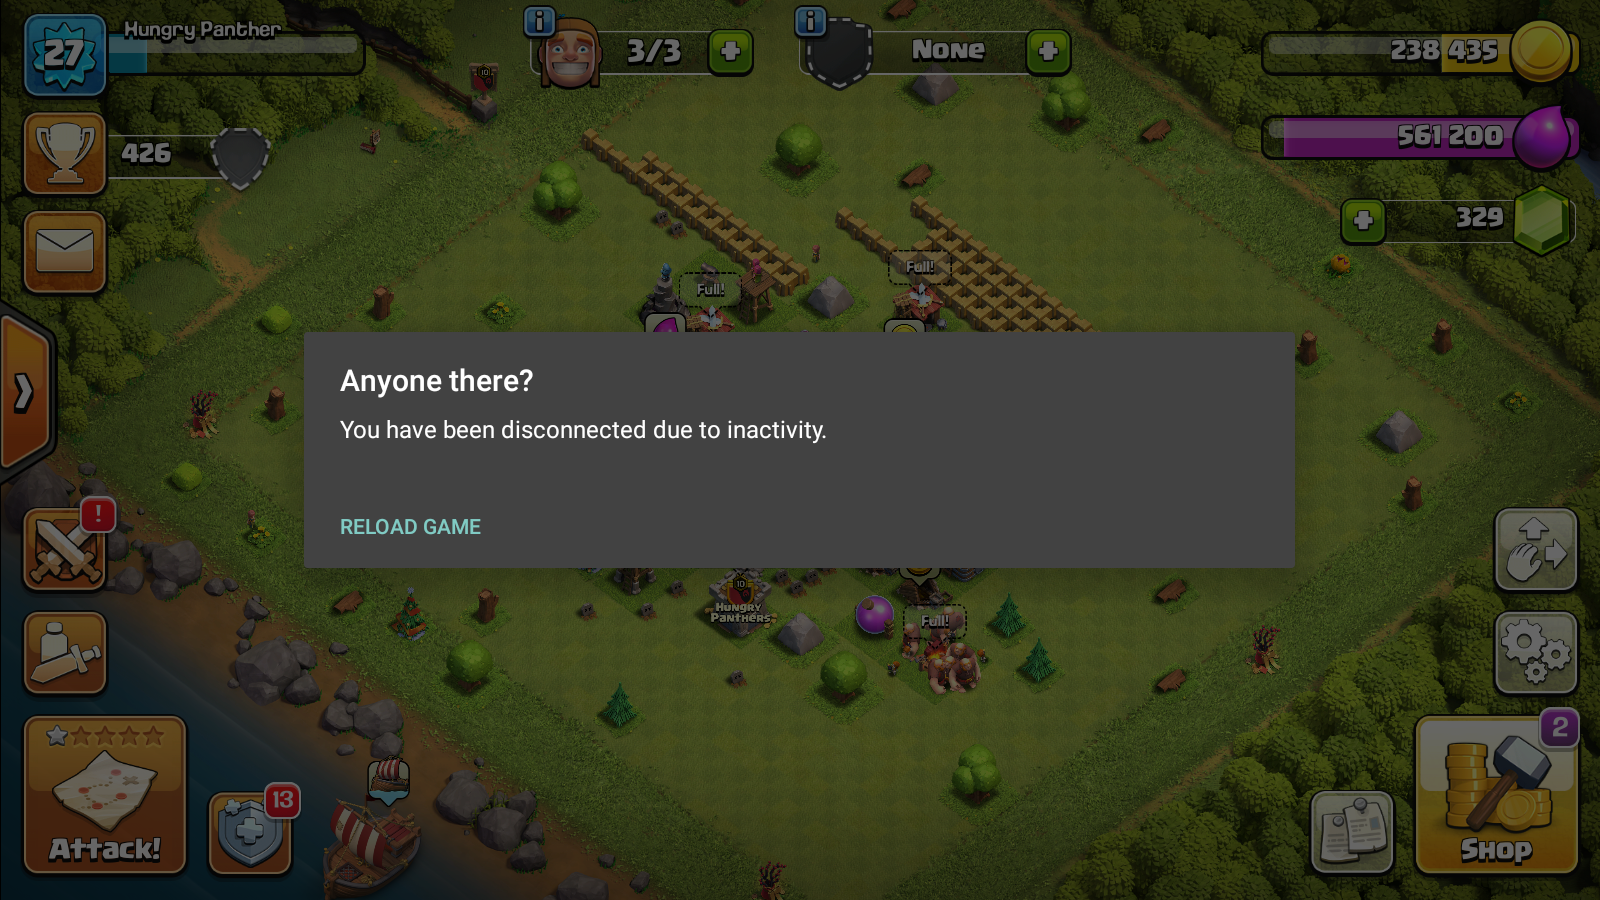innactivity_box: (303, 330, 1295, 568)
reload_game: (332, 513, 487, 543)
